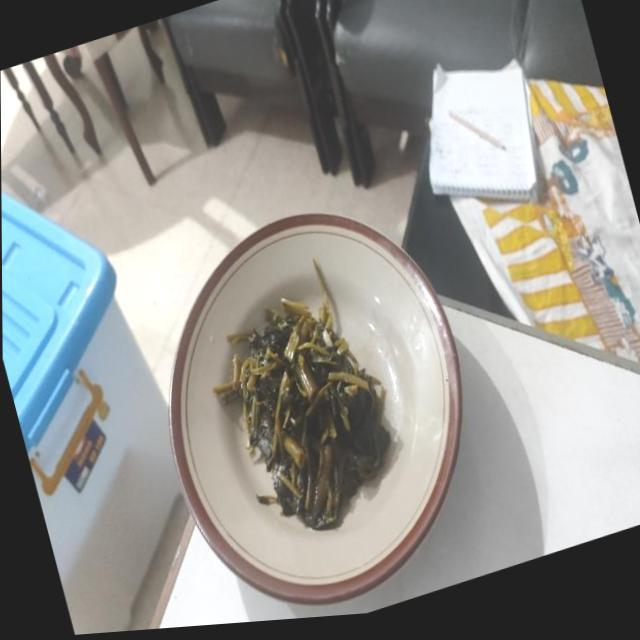tumis_kangkung: (212, 259, 390, 528)
